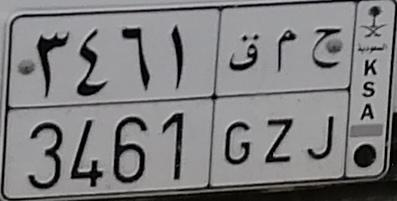1: (159, 24, 188, 180)
3: (27, 29, 70, 190)
4: (70, 27, 105, 187)
6: (113, 24, 151, 185)
G: (223, 34, 261, 166)
J: (306, 24, 341, 161)
Z: (264, 27, 298, 163)
